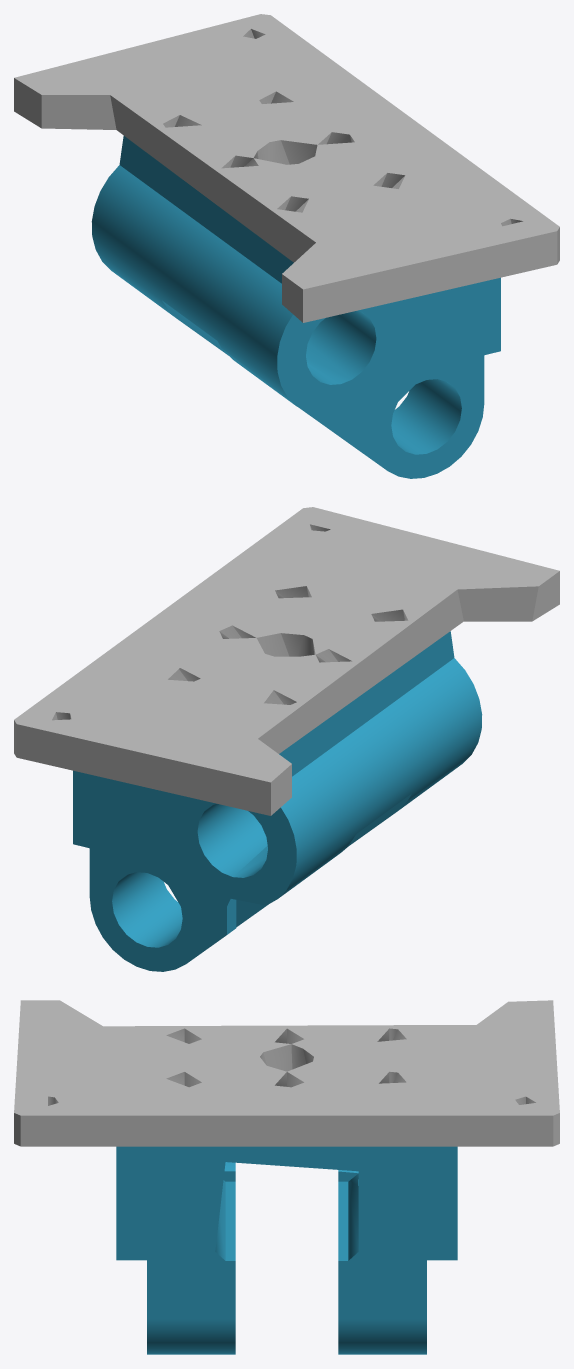
Rendered from leg_base_link.dae.
3 views of the same model, one above another, from view 1: azimuth 30°, elevation 25°; view 2: azimuth 150°, elevation 25°; view 3: azimuth 270°, elevation 25° (orthographic). The views are drawn at different scales.
Visible parts, largest first — view 1: FBXASC227FBXASC130FBXASC189FBXASC227FBXASC131FBXASC170FBXASC (×2); view 2: FBXASC227FBXASC130FBXASC189FBXASC227FBXASC131FBXASC170FBXASC (×2); view 3: FBXASC227FBXASC130FBXASC189FBXASC227FBXASC131FBXASC170FBXASC (×2).
Boxes of the visible parts, x1,y1,x2,y2 form: FBXASC227FBXASC130FBXASC189FBXASC227FBXASC131FBXASC170FBXASC (×2): (14, 14, 559, 478); FBXASC227FBXASC130FBXASC189FBXASC227FBXASC131FBXASC170FBXASC (×2): (14, 507, 559, 971); FBXASC227FBXASC130FBXASC189FBXASC227FBXASC131FBXASC170FBXASC (×2): (14, 1000, 559, 1354).
Bounding box in the file's own units: 0.08 × 0.16 × 0.0848.
